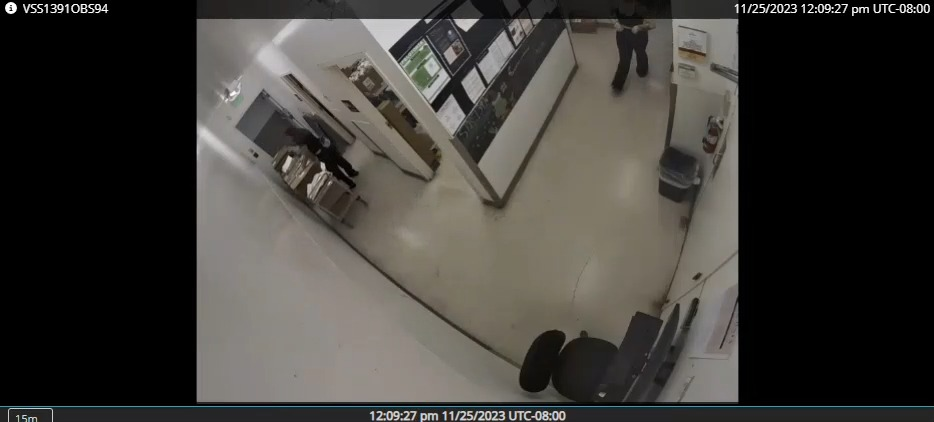gloves: (602, 23, 653, 41)
